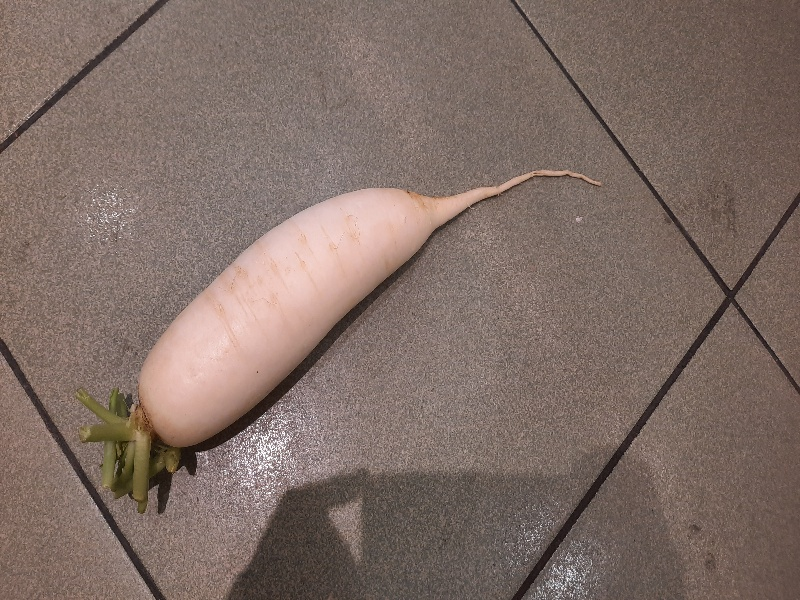vege: (78, 160, 594, 535)
